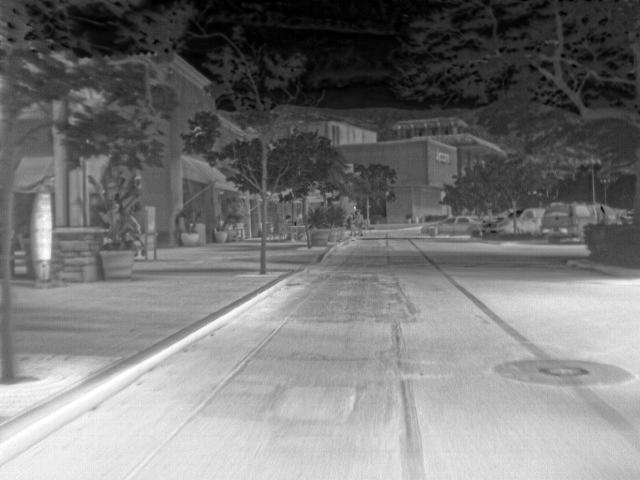car: (543, 202, 593, 244), (420, 215, 484, 238), (516, 206, 542, 234), (485, 211, 515, 235), (597, 203, 623, 225)
person: (107, 200, 123, 243), (345, 213, 357, 237), (355, 210, 365, 238), (280, 214, 294, 228)
